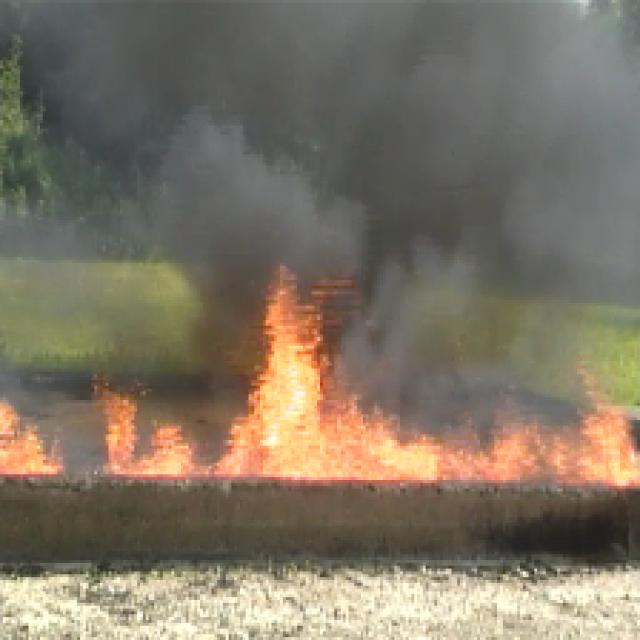fire: (338, 416, 634, 479), (255, 314, 328, 478), (111, 404, 190, 471)
smoke: (109, 11, 634, 297)
